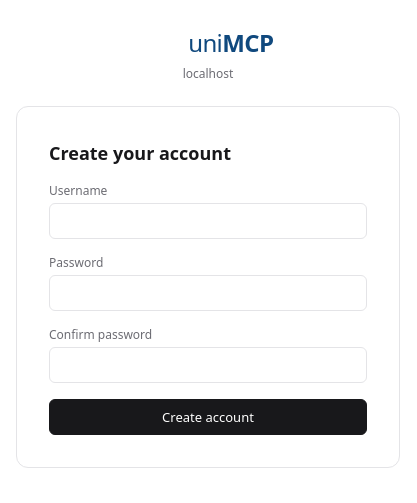
Test case: a new account needs the same password twice
In the field labelled "Username": (208, 221) [49,203,367,239], type "Sam"
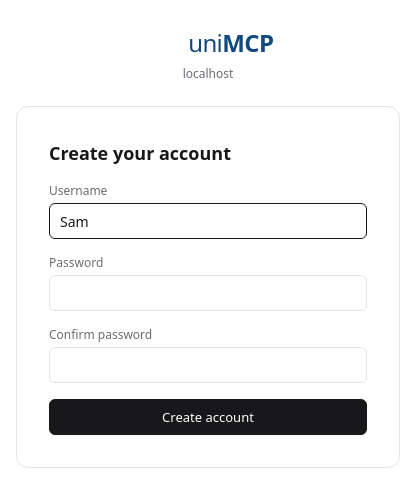
In the password field labelled "Password": (208, 293) [49,275,367,311], type "correct horse battery"
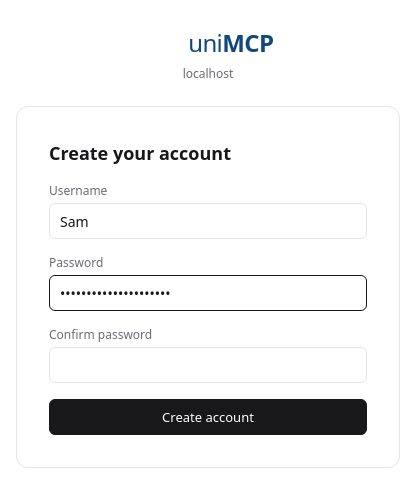
In the password field labelled "Confirm password": (208, 365) [49,347,367,383], type "correct horse batery"
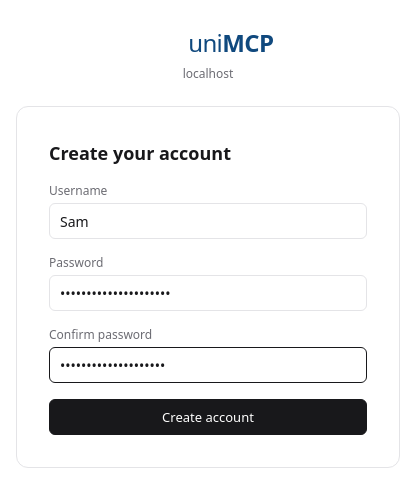
Click the button "Create account": click(208, 417) [49,399,367,435]
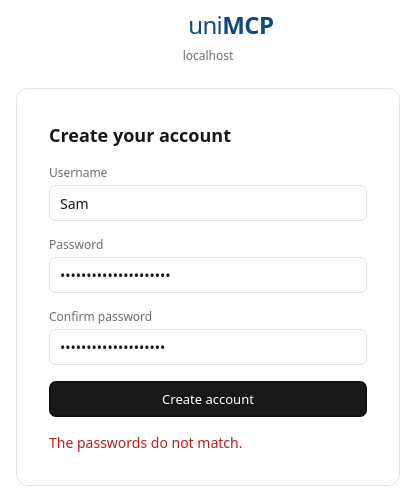
Check: the message reads "The passwords do not match.", box [49,433,242,452]
